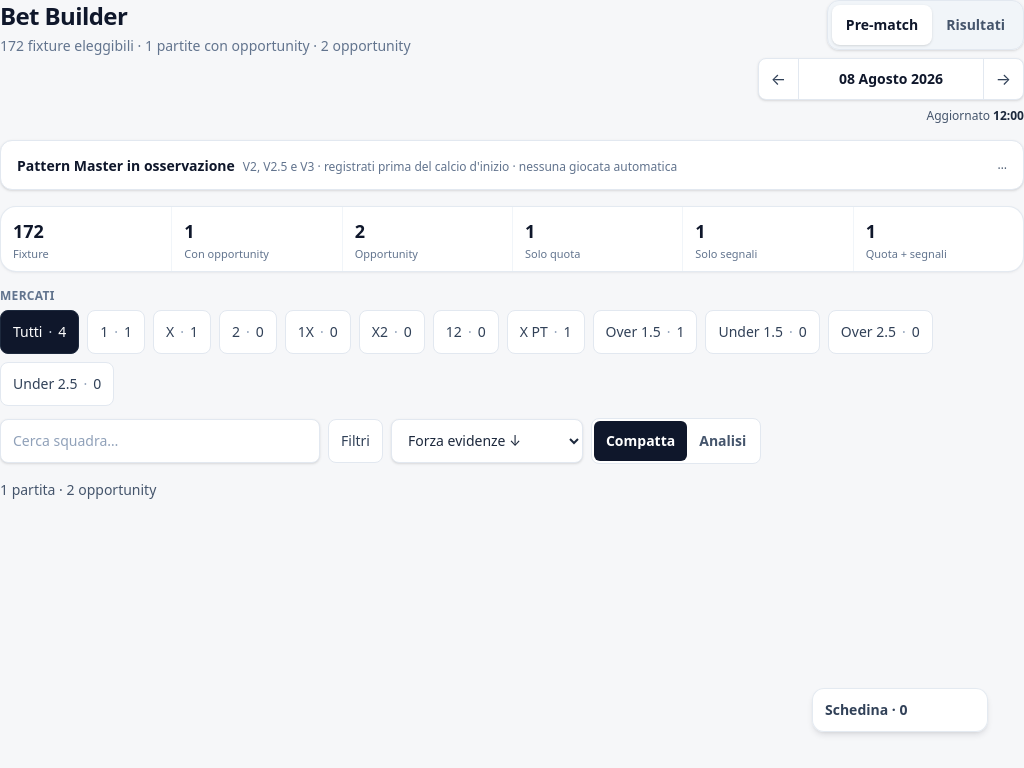
Test case: BetBuilderPage › filtro market restringe opportunity interne
The width and height of the screenshot is (1024, 768).
Expected: the tab named "X, 1" is shown, left=153, top=310, right=211, bottom=354
Click the tab named "1, 1". click: {"x": 116, "y": 332}
box: left=87, top=310, right=145, bottom=354
(page scrolled)
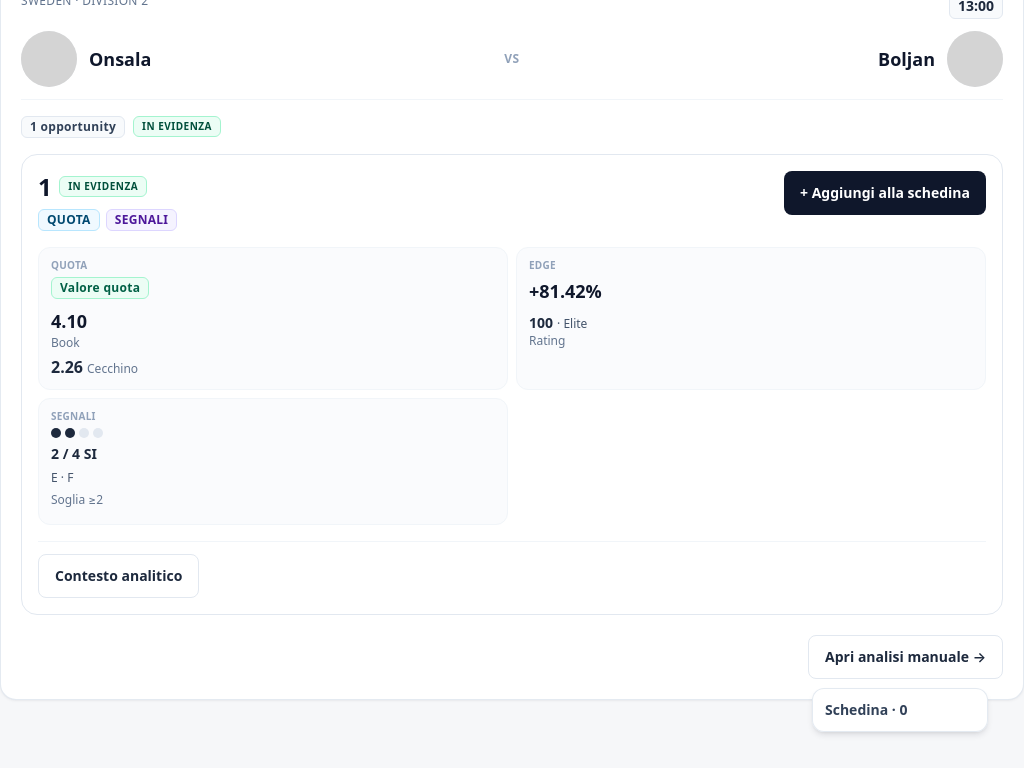
Expected: the number of elements with test id "bet-builder-opportunity-row" is 1, left=21, top=154, right=1003, bottom=615
